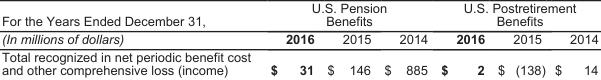table: (0, 0, 597, 76)
table column: (0, 0, 259, 76), (259, 0, 320, 76), (490, 0, 549, 76), (376, 0, 433, 76), (433, 0, 490, 76), (320, 0, 376, 76), (549, 0, 597, 76)
table column header: (0, 0, 597, 47)
table row: (0, 0, 597, 29), (0, 47, 597, 76), (0, 29, 597, 47)
table spanning cell: (0, 0, 259, 47), (259, 0, 433, 29), (433, 0, 597, 29)
